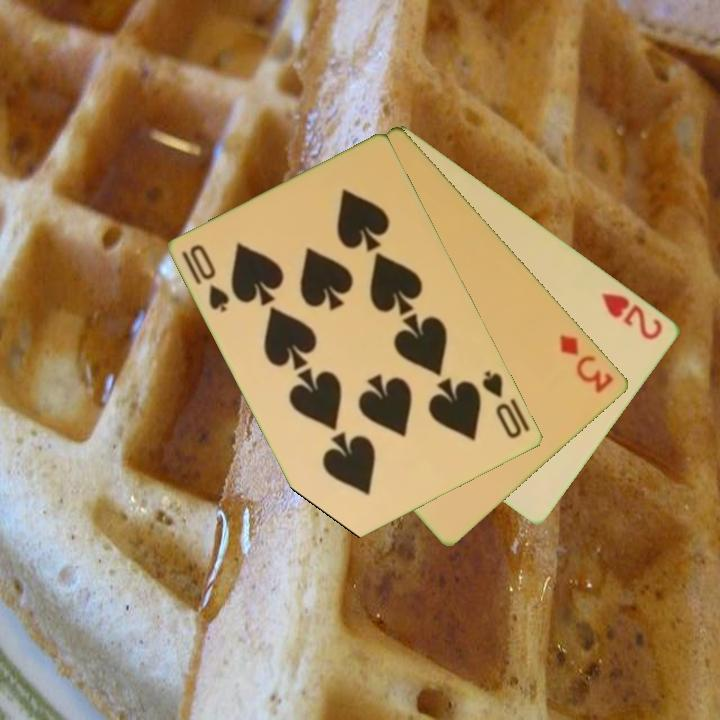10s: (178, 240, 233, 316), (479, 367, 526, 442)
2h: (598, 289, 667, 343)
3d: (556, 330, 617, 397)
